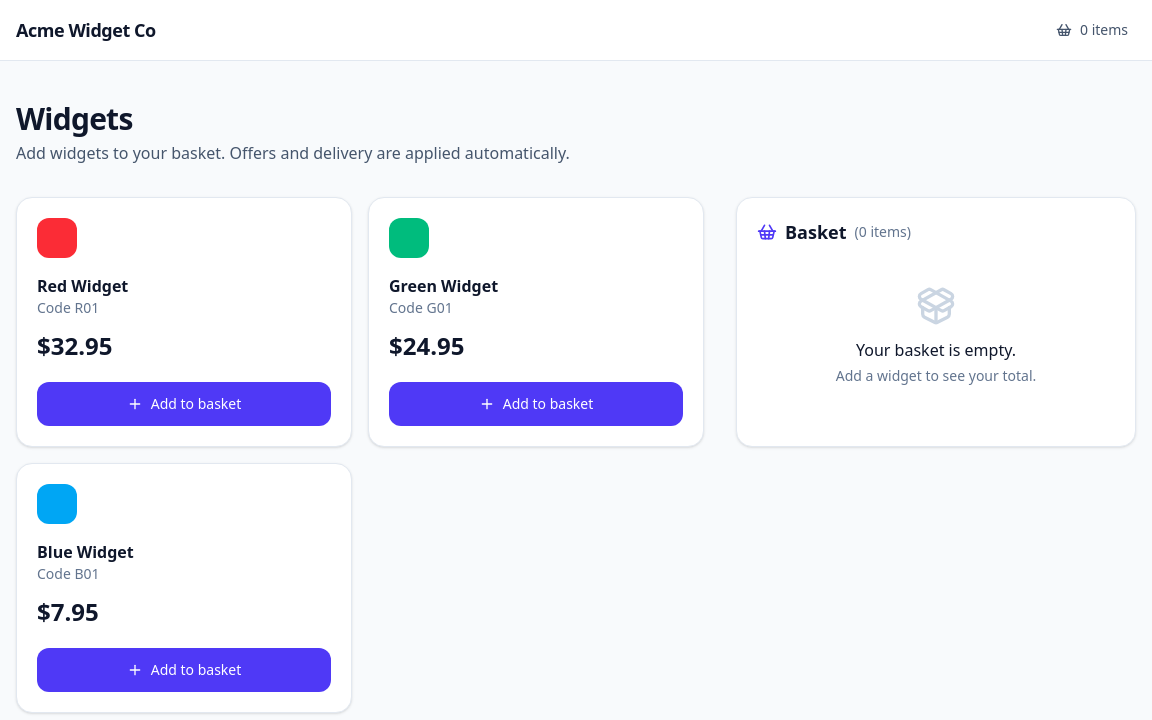
Test: App › prices the assessment basket ["R01","G01"] at $60.85
Click the button with aria-label "Add Red Widget to basket".
click(184, 404)  # box [37,382,331,426]
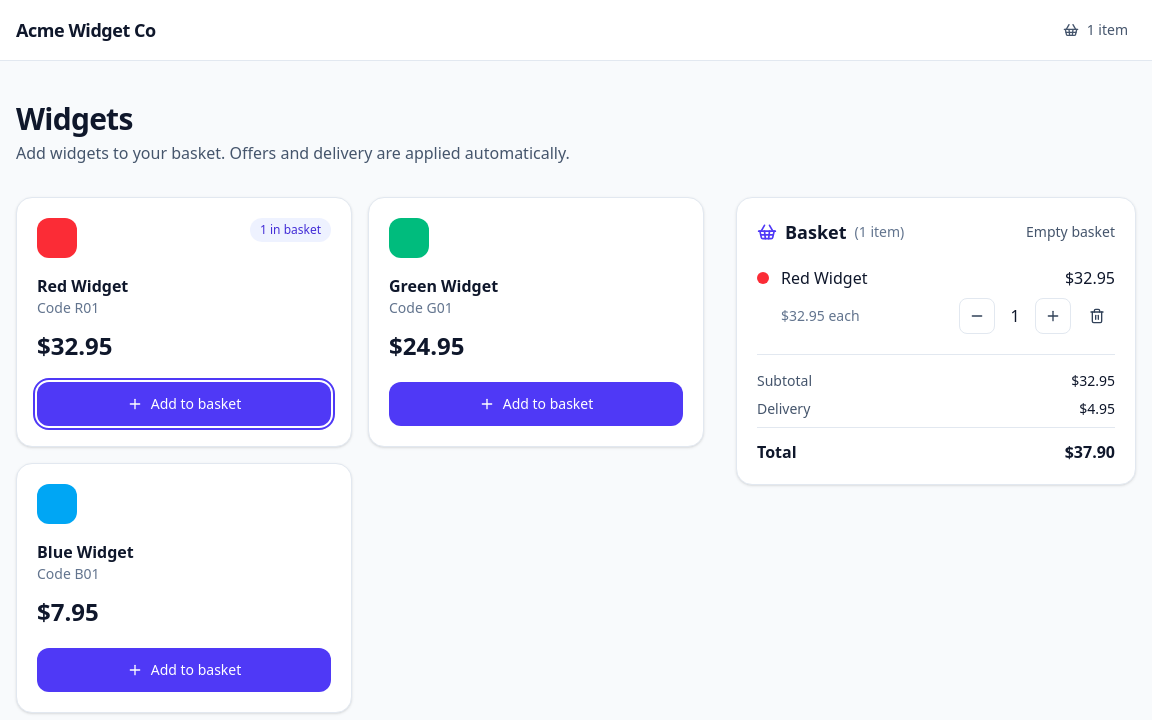
Click the button with aria-label "Add Green Widget to basket".
click(536, 404)  # box [389,382,683,426]
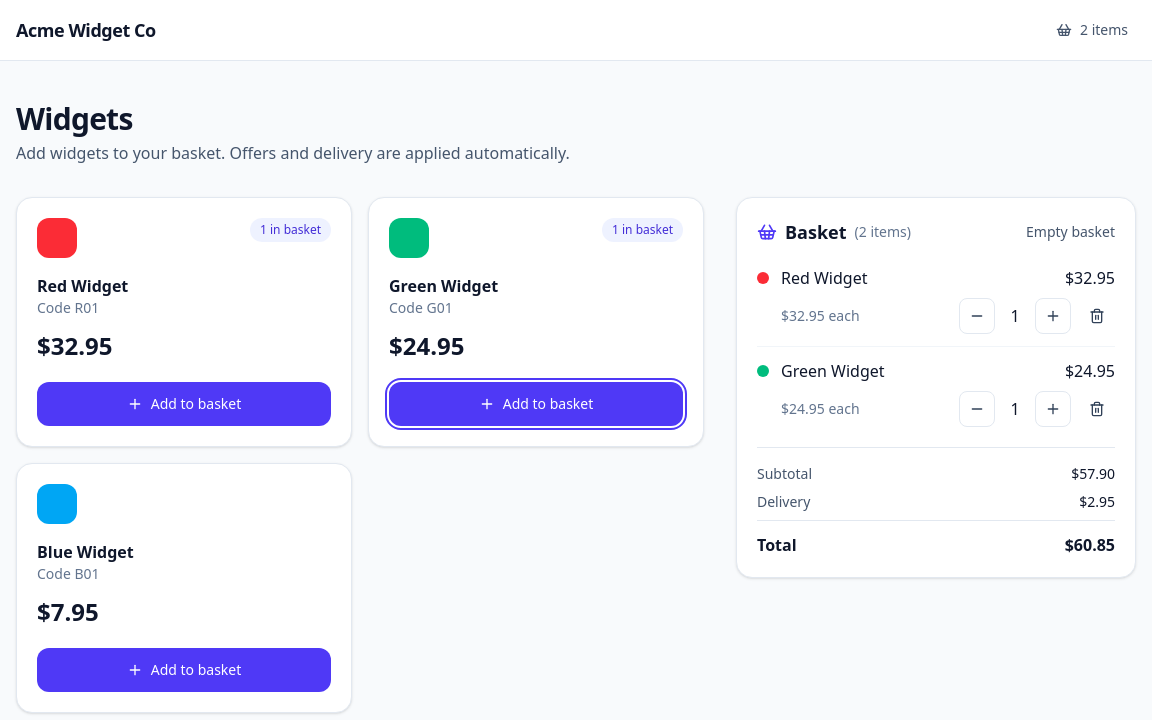
Now the text with test id "basket-total" reads "$60.85", box [1065,534,1115,556]
